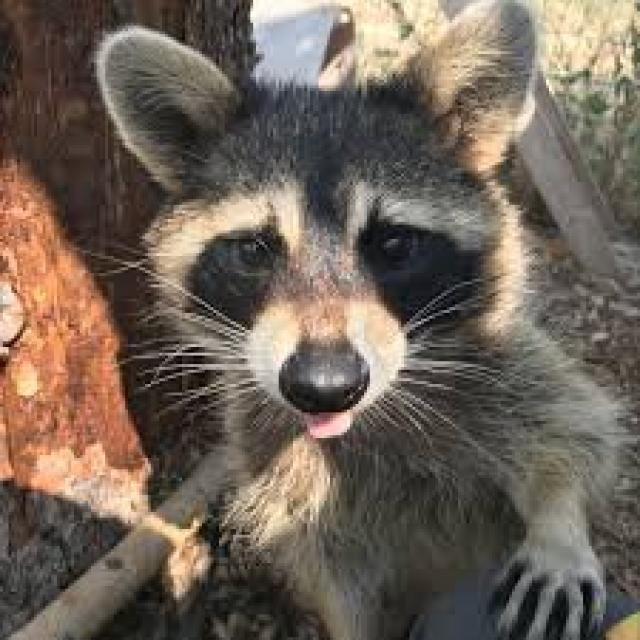Raccoon: (103, 22, 615, 640)
